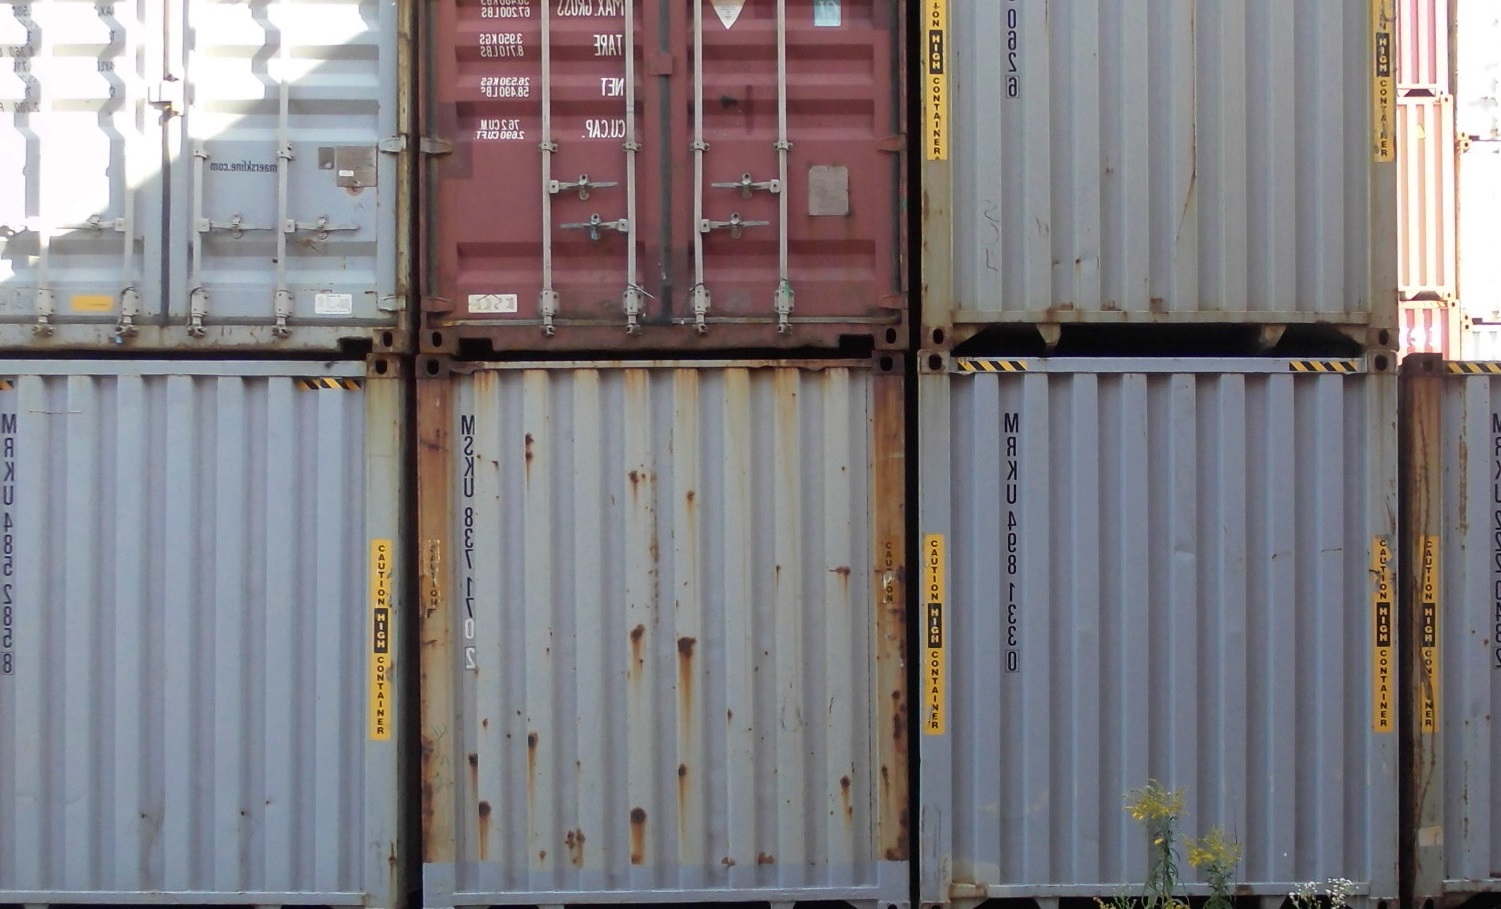container_door: (415, 1, 913, 343), (1, 1, 399, 345)
container_no_door: (413, 356, 900, 909), (920, 354, 1407, 906), (1, 356, 411, 909), (915, 1, 1398, 345)
